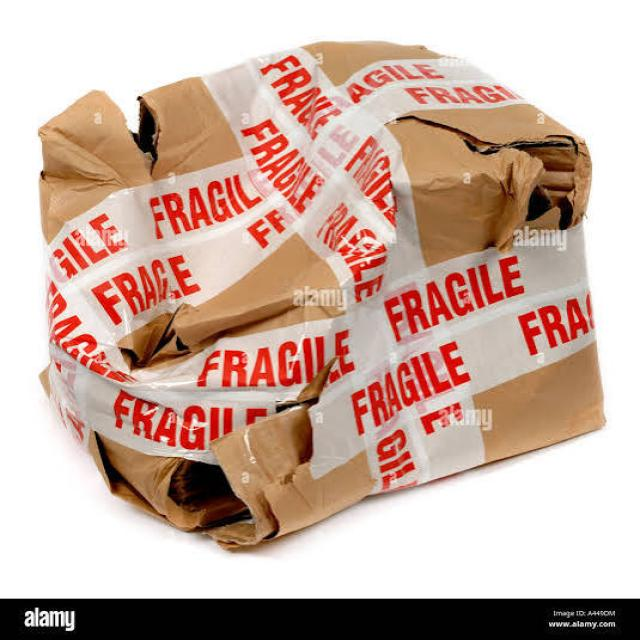fragile_label: (336, 340, 488, 436), (368, 255, 537, 338), (81, 253, 222, 330), (189, 338, 367, 398), (136, 164, 267, 241)
package_damage: (9, 25, 633, 544)
